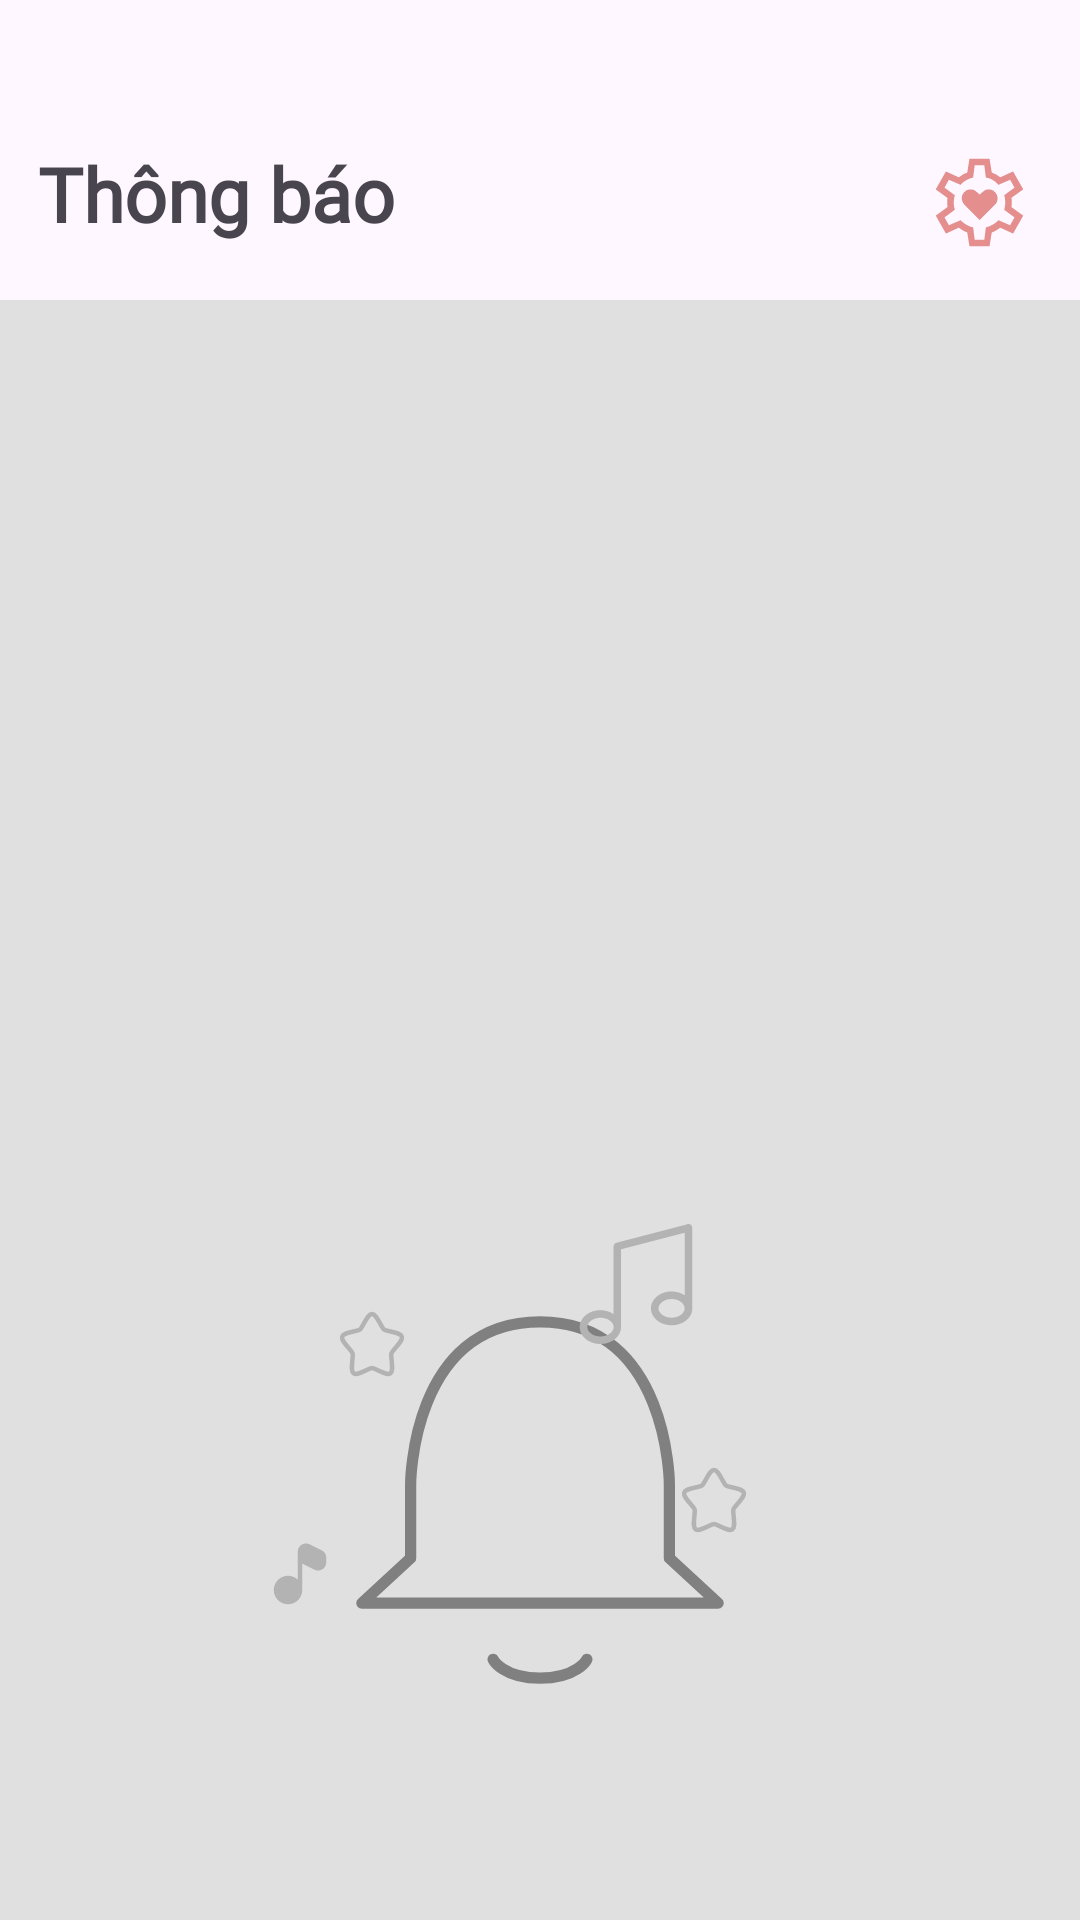

Icon bounding boxes for this 1080w x 1920h phone screenshot, format box=[x1, y1, x2, y2]:
settings heart: box=[936, 158, 1023, 247]
